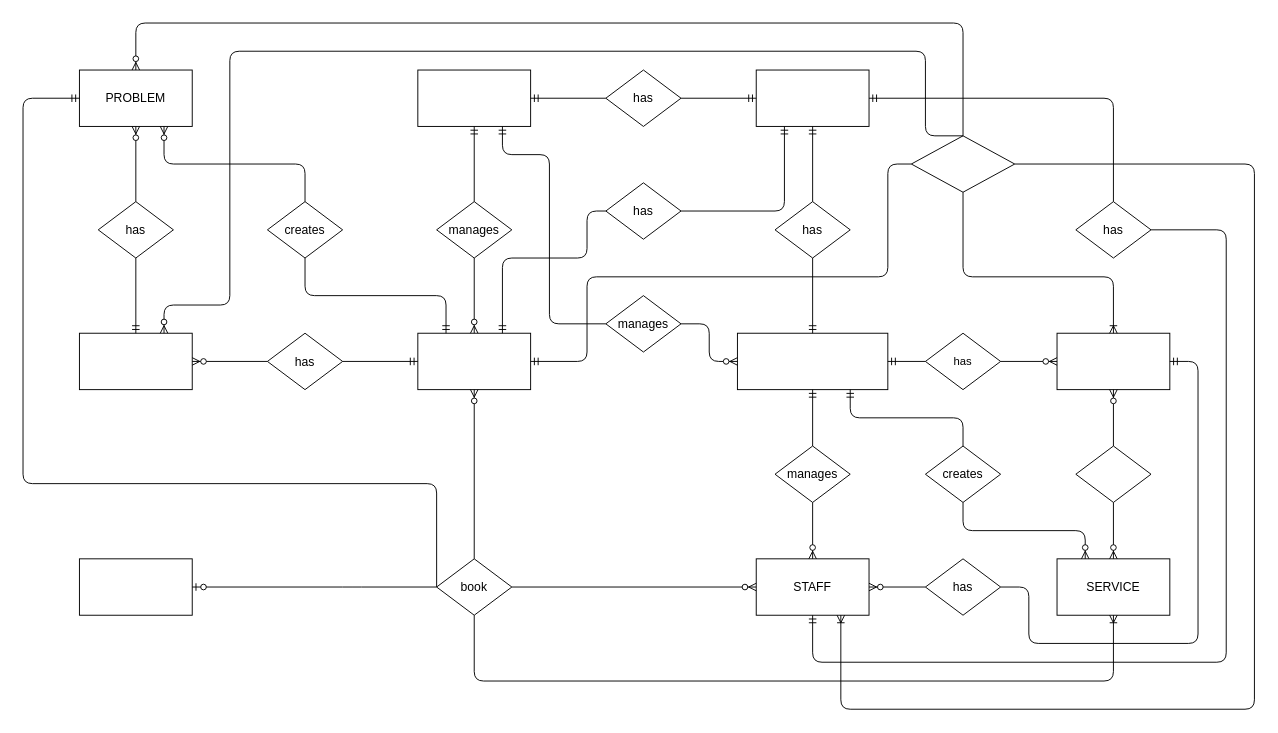
Some shapes in this 1278 by 733 pixel diagram are drawn without their labels. Here are the shapes that lost their labels. From the top down, the centre of each, then its label:
pixel 474 97: ADMIN
pixel 812 97: ACCOUNT
pixel 962 163: send problem
pixel 135 361: BIKE
pixel 474 361: CUSTOMER
pixel 812 361: REPAIR SHOP OWNER
pixel 1113 361: REPAIR SHOP
pixel 1113 473: have
pixel 135 586: FEEDBACK
